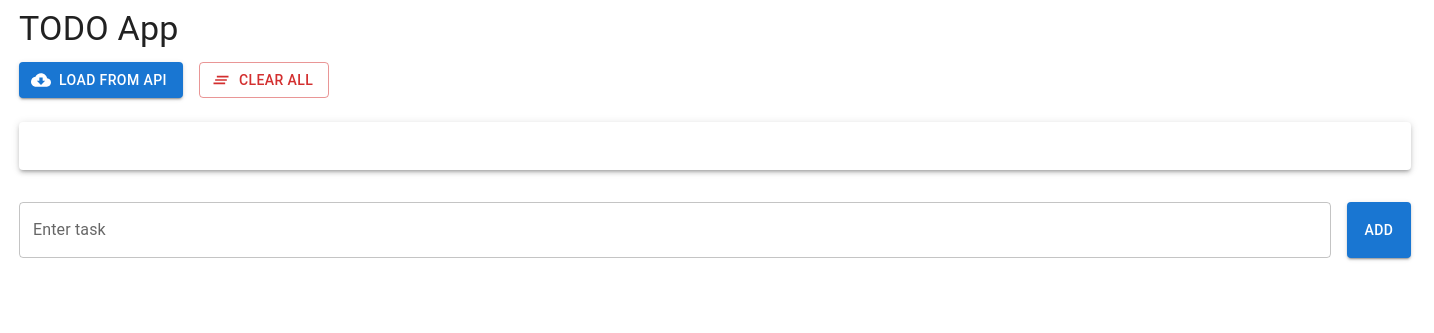
Test: TODO App › clears all todos when Clear All is clicked
Type "Temp task" into the field labelled "Enter task" at (675, 230), box [19, 202, 1331, 258]
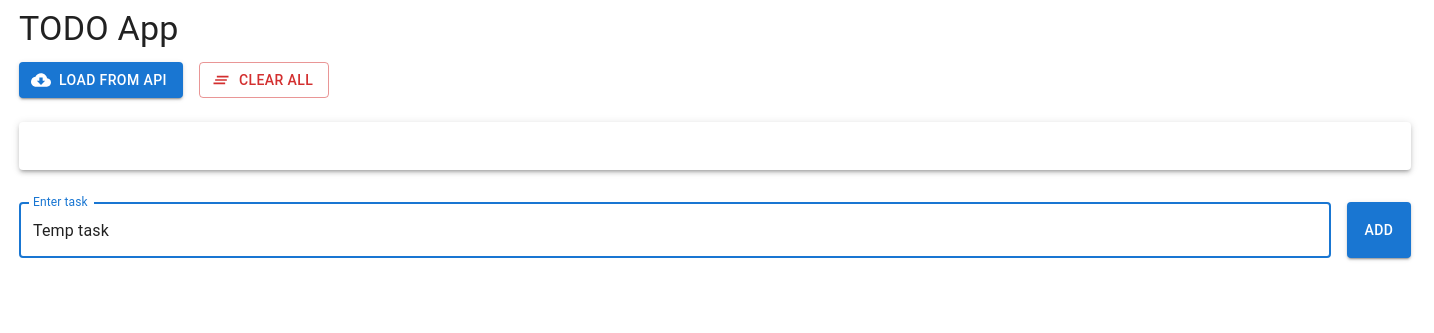
Click the button "Add" at (1379, 230), box [1347, 202, 1411, 258]
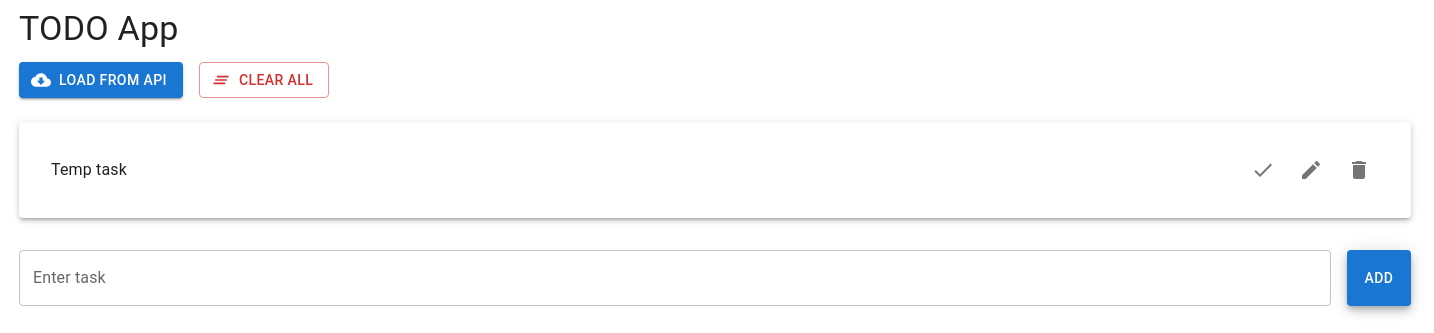
Result: the text "Temp task" is shown at [51, 160, 127, 179]
Click the button "Clear All" at (264, 80), box [199, 62, 329, 98]
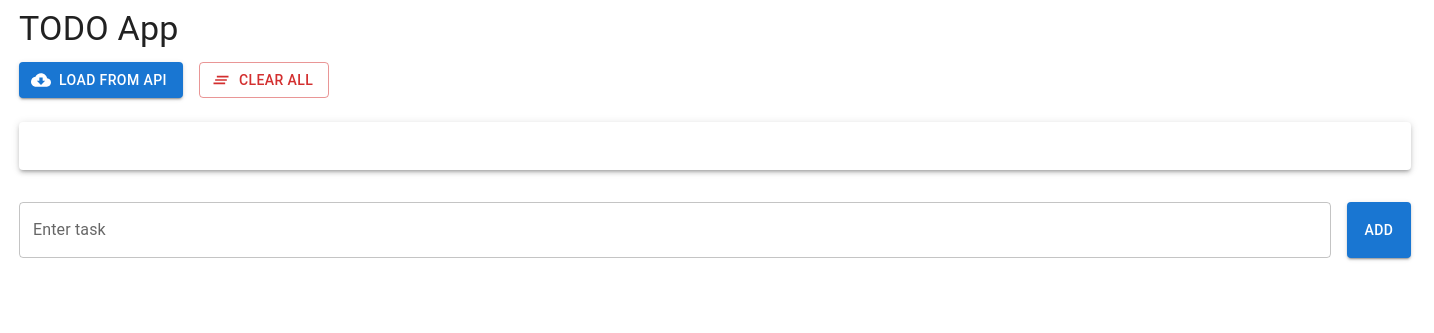
Result: the text "Temp task" is gone
